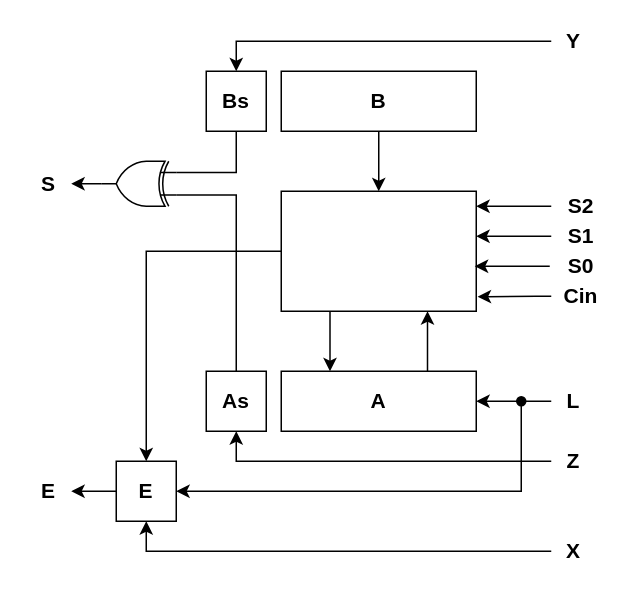
The diagram is 636 pixels wide and 591 high, and some of its shapes have lost their labels. Each missing label, with the centre of its shape:
"ALU" goes at [378,250].
"XOR" goes at [138,183].
